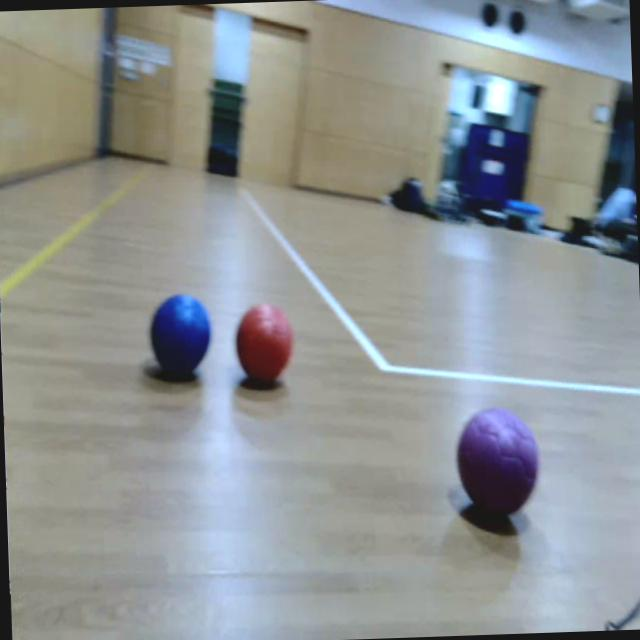blue_ball: (147, 291, 213, 372)
purple_ball: (455, 406, 541, 515)
red_ball: (236, 302, 294, 383)
